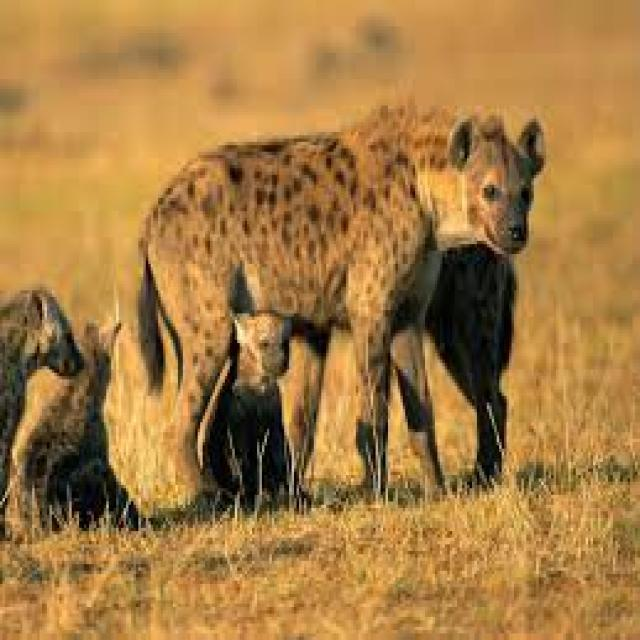Hyena: (141, 104, 535, 516)
